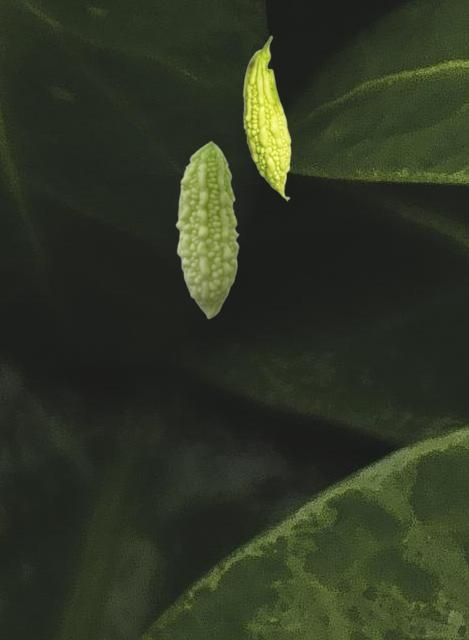ampalaya: (175, 140, 239, 319), (241, 35, 293, 202)
